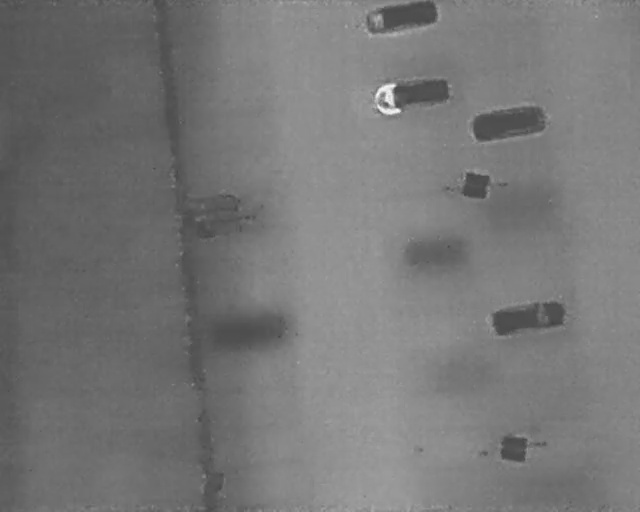Car: (371, 71, 453, 118), (488, 295, 568, 339), (469, 101, 549, 144), (366, 2, 440, 34)
